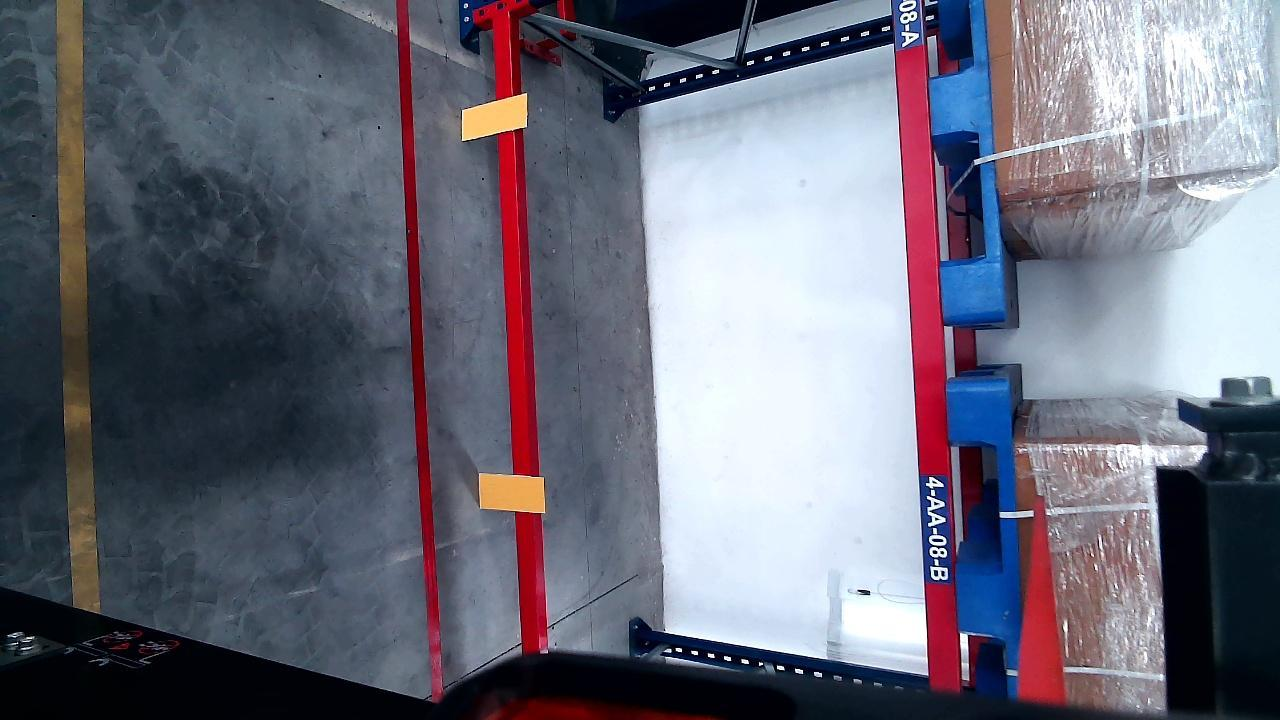red_line: (393, 1, 449, 701)
yellow_line: (55, 0, 97, 611)
